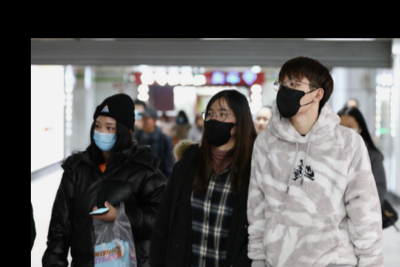with_mask: (273, 78, 311, 118), (203, 106, 233, 148), (92, 119, 114, 151)
without_mask: (252, 116, 269, 136)
